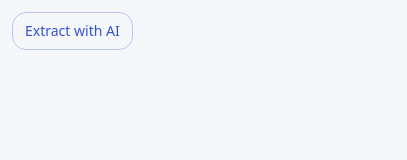
Test case: extracts only on click, sends auth and exposes the saved-record view
Step 1. Click the button "Extract with AI" → (72, 31), box [12,12,133,50]
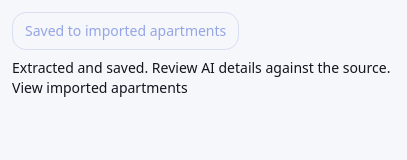
Now the link "View imported apartments" is shown, box [12,78,188,97]
Now the button "Saved to imported apartments" is disabled, box [12,12,239,50]
